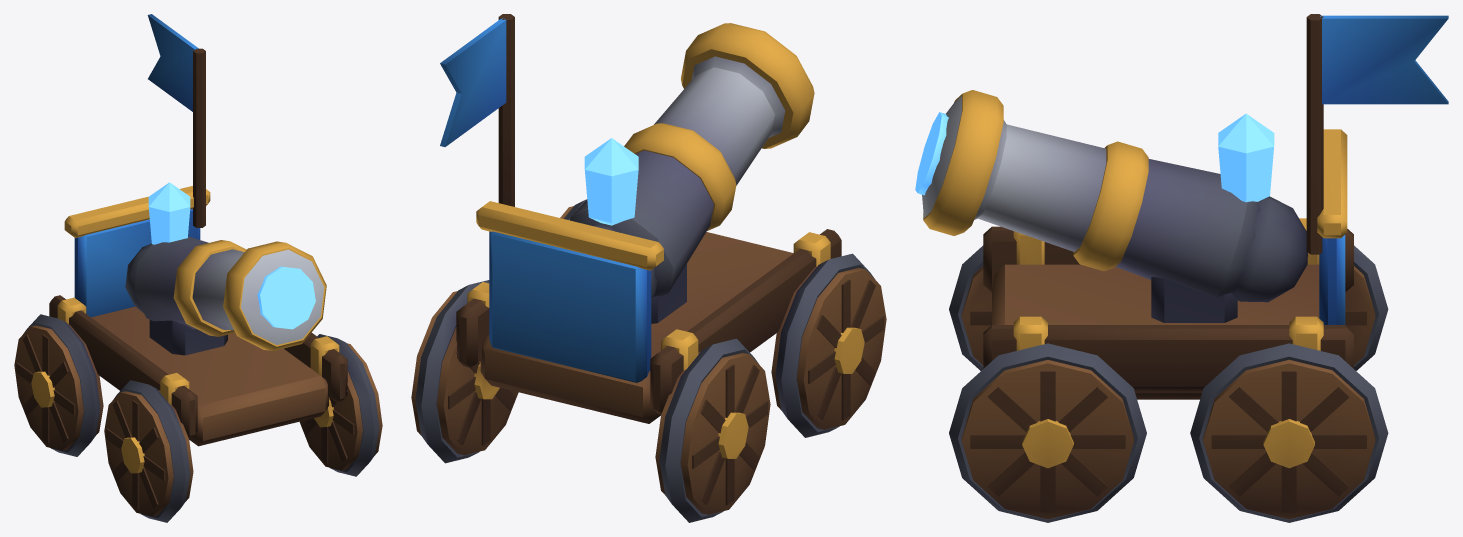
Rendered from minion_siege.glb.
The picture shows the model from 3 angles, left to right: view 1: azimuth 30°, elevation 25°; view 2: azimuth 150°, elevation 25°; view 3: azimuth 270°, elevation 25°; orthographic projection. The views are drawn at different scales.
Parts seen in each view (by area): view 1: body, barrel, wheel_fr, wheel_br, wheel_fl, core; view 2: body, barrel, wheel_br, wheel_fr, wheel_bl, core; view 3: body, barrel, wheel_bl, wheel_fl, core, wheel_fr, wheel_br.
Boxes of the visible parts, box(x1,y1,x2,y2) form: body: box(49, 14, 347, 446); barrel: box(125, 236, 326, 350); wheel_fr: box(104, 380, 193, 522); wheel_br: box(14, 314, 103, 456); wheel_fl: box(299, 334, 382, 476); core: box(148, 182, 190, 244); body: box(440, 14, 841, 423); barrel: box(570, 23, 814, 297); wheel_br: box(655, 338, 770, 522); wheel_fr: box(771, 253, 886, 437); wheel_bl: box(411, 280, 518, 463); core: box(584, 138, 638, 225); body: box(983, 14, 1448, 399); barrel: box(915, 90, 1307, 302); wheel_bl: box(1190, 343, 1388, 522); wheel_fl: box(949, 343, 1146, 522); core: box(1218, 113, 1274, 202); wheel_fr: box(949, 245, 991, 370); wheel_br: box(1345, 245, 1388, 370).
Size of the model in its own units: 0.81 by 1.23 by 1.24.
